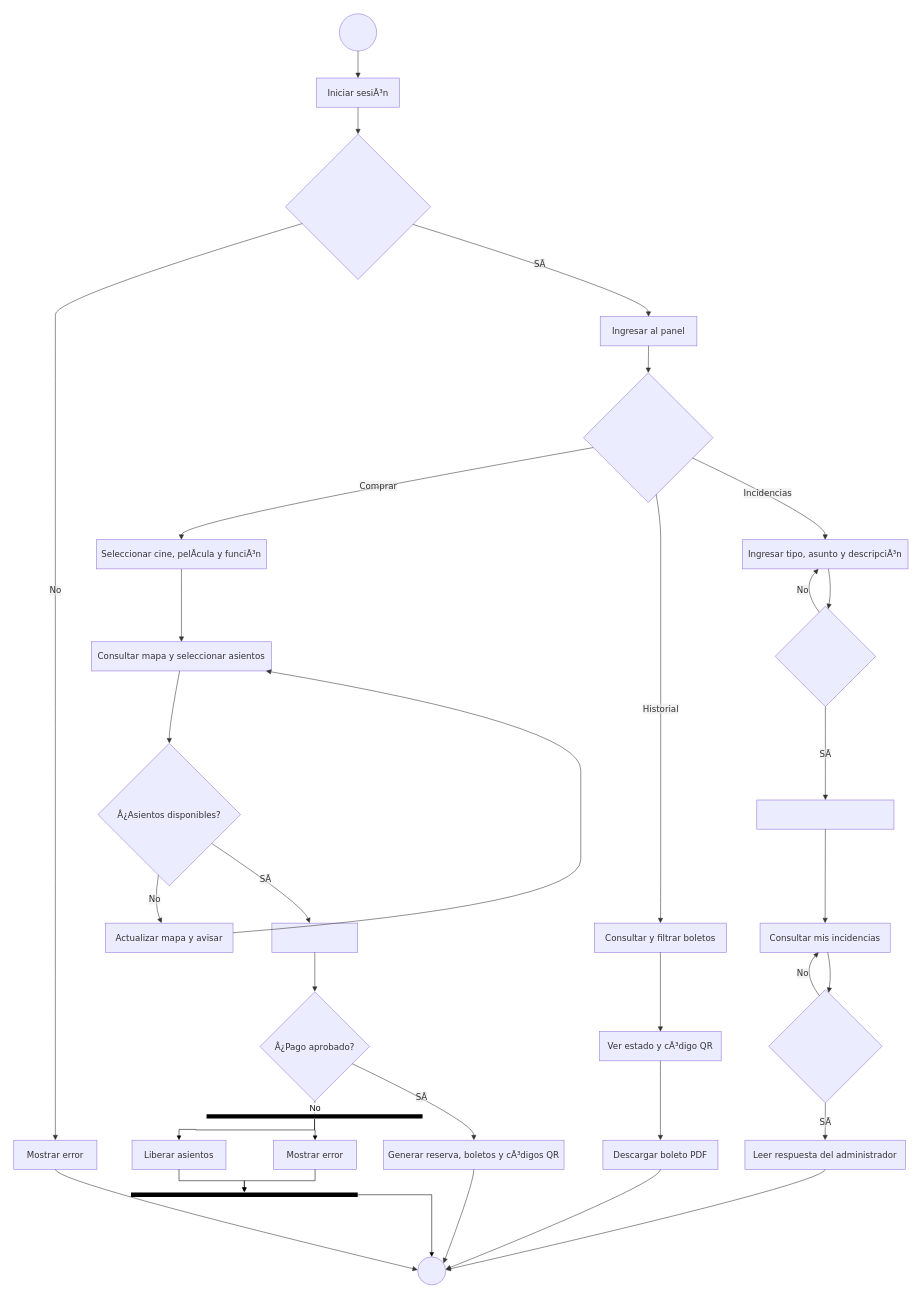
The diagram is 917 pixels wide and 1294 high, and some of its shapes have lost their labels. The shapes that lost their labels are listed below. From the top down, each one's box as (x1, y1, x2, y2) in pixels, then its label:
(339, 13, 377, 51): Inicio
(285, 134, 431, 279): Â¿Credenciales vÃ¡lidas?
(583, 372, 713, 502): Seleccionar secciÃ³n
(775, 606, 876, 707): Â¿Datos vÃ¡lidos?
(756, 799, 894, 829): Crear incidencia pendiente
(271, 923, 358, 952): Procesar pago
(768, 989, 882, 1103): Â¿Fue respondida?
(417, 1256, 446, 1285): Fin
